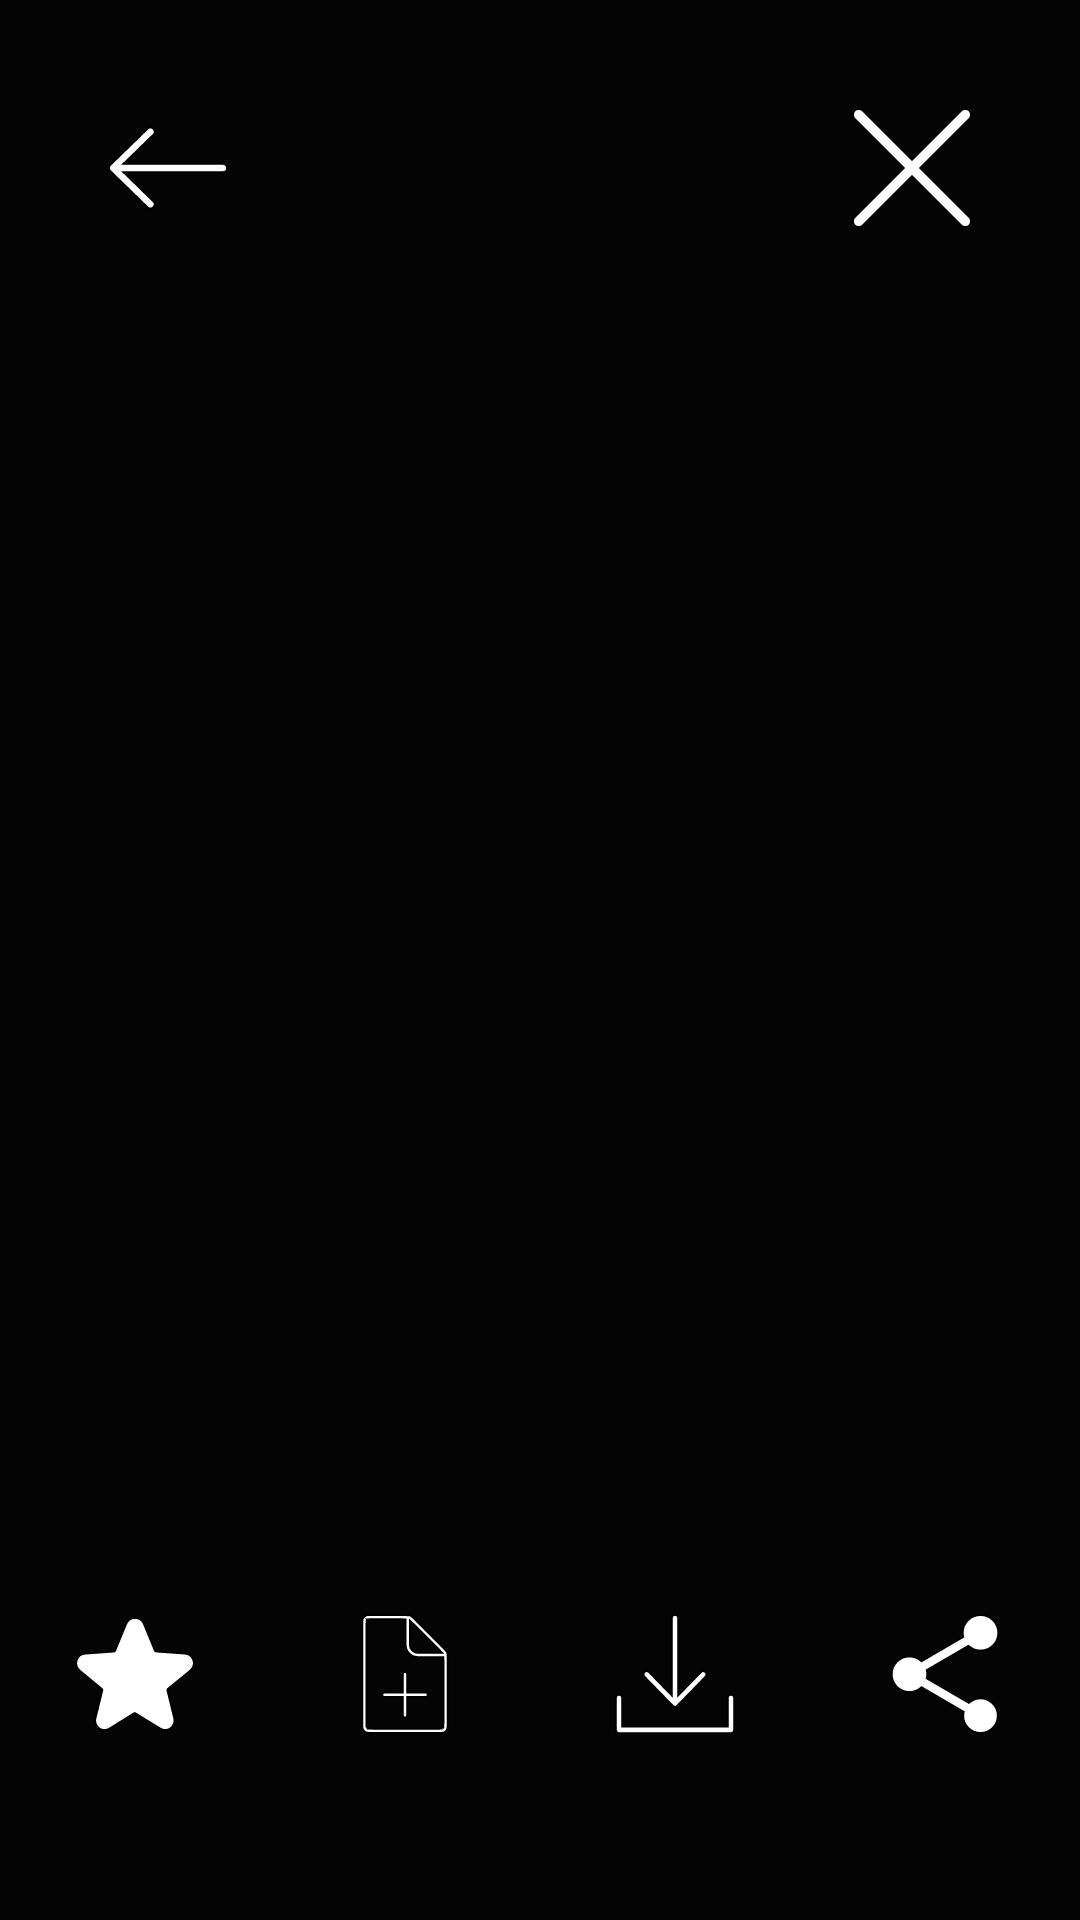

Icons on this 1080 × 1920 Android screen, each with the point to tap as point (x, y):
add watermark: point (405, 1674)
cancel: point (912, 168)
favourite watermark: point (135, 1674)
left arrow: point (168, 168)
save: point (675, 1674)
share: point (945, 1674)
